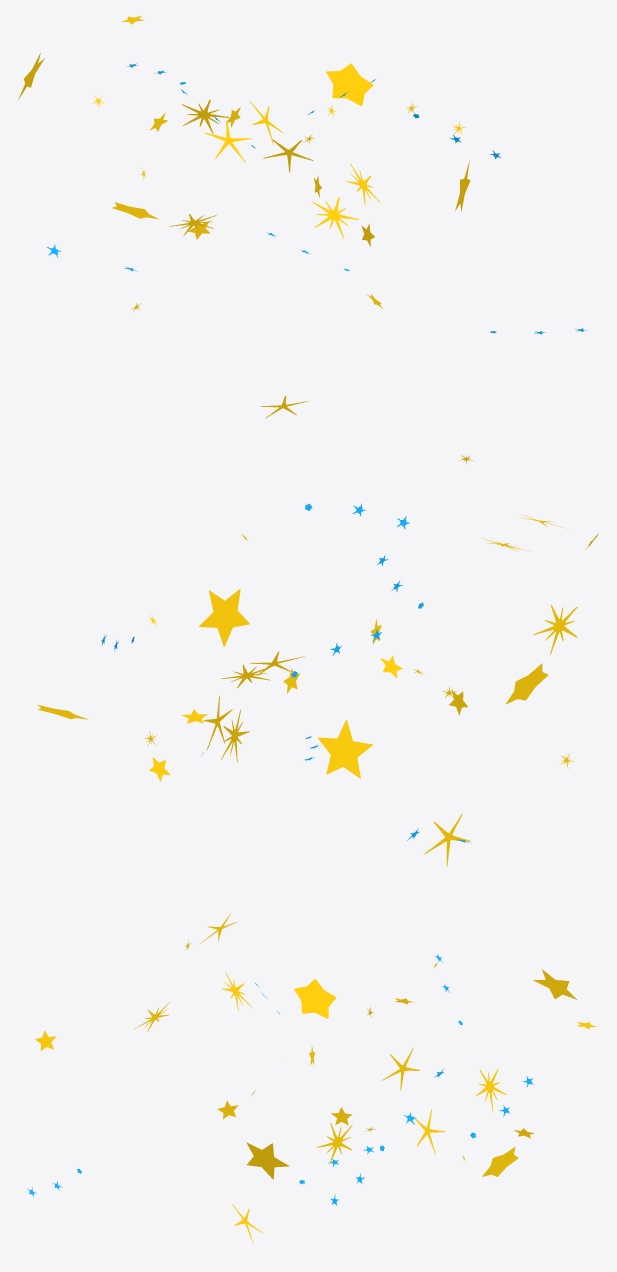
File: star_trail.glb
3 views of the same model, one above another, from view 1: azimuth 30°, elevation 25°; view 2: azimuth 150°, elevation 25°; view 3: azimuth 270°, elevation 25° (orthographic). The views are drawn at different scales.
Visible parts, largest first — view 1: Plane; view 2: Plane; view 3: Plane.
Part boxes in pixels (x1=…): Plane: x1=18, y1=15, x2=586, y2=418; Plane: x1=37, y1=455, x2=598, y2=866; Plane: x1=27, y1=913, x2=596, y2=1243.
Size of the model in its own units: 0.9041 by 0.7391 by 1.25.
Materials: 1 (1 with a texture image).
